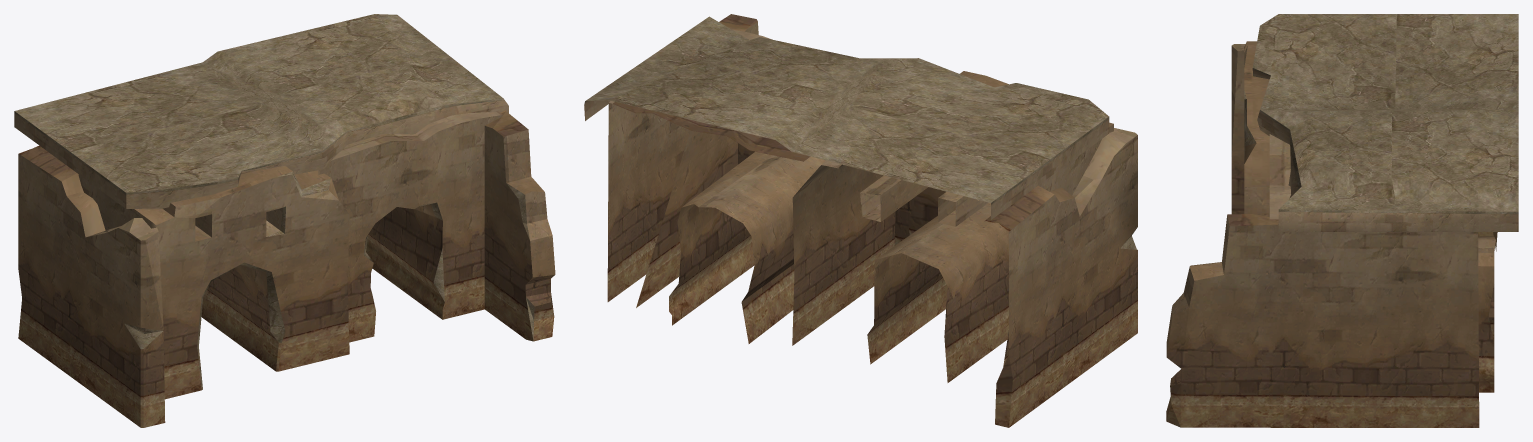
Rendered from environment_Building_shamofeiqijianzhu_01_a.FBX.
The picture shows the model from 3 angles, left to right: view 1: azimuth 30°, elevation 25°; view 2: azimuth 150°, elevation 25°; view 3: azimuth 270°, elevation 25°; orthographic projection. The views are drawn at different scales.
Visible parts, largest first — view 1: environment_Building_shamofeiqijianzhu_01_a; view 2: environment_Building_shamofeiqijianzhu_01_a; view 3: environment_Building_shamofeiqijianzhu_01_a.
Boxes of the visible parts, bbox=[...] form: environment_Building_shamofeiqijianzhu_01_a: bbox=[14, 14, 555, 427]; environment_Building_shamofeiqijianzhu_01_a: bbox=[584, 14, 1137, 427]; environment_Building_shamofeiqijianzhu_01_a: bbox=[1166, 14, 1518, 427].
Bounding box in the file's own units: 643 × 359 × 468.
